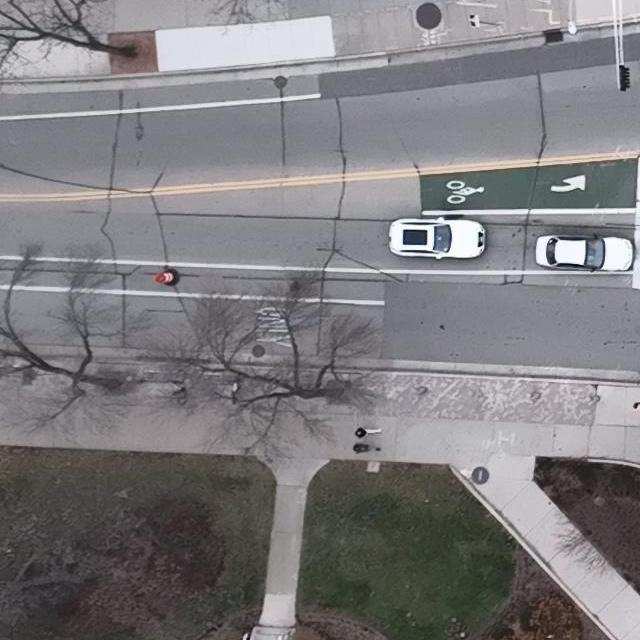car: (388, 217, 487, 260), (534, 233, 636, 273)
